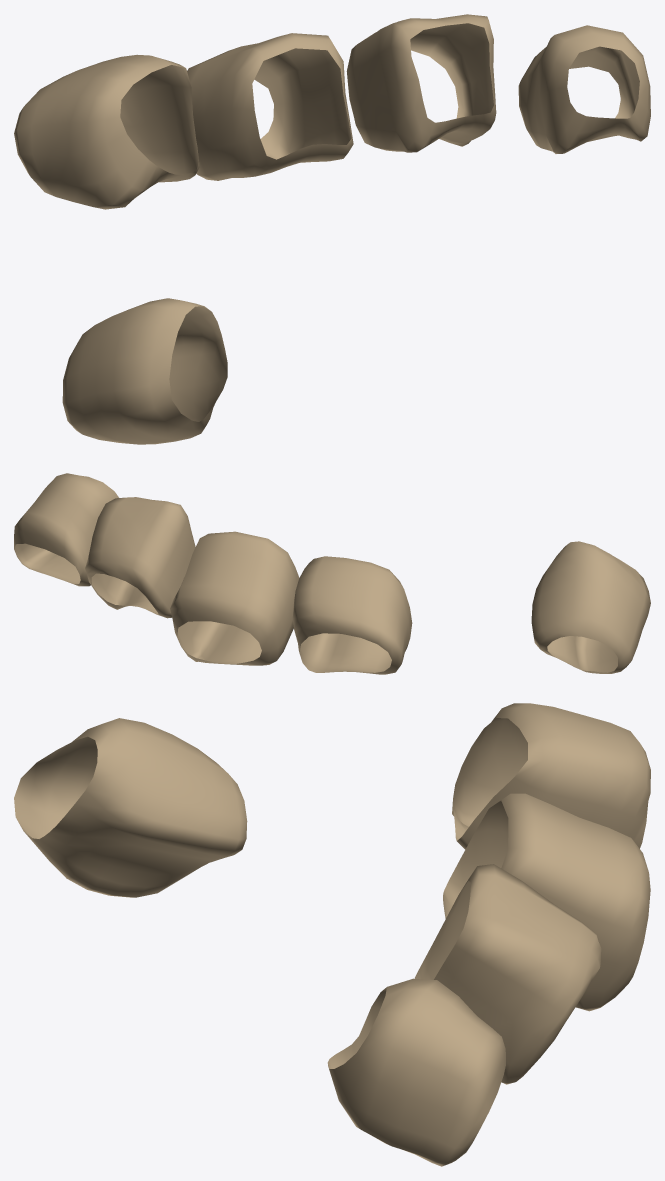
3 renders of one model, top to bottom at view 1: azimuth 30°, elevation 25°; view 2: azimuth 150°, elevation 25°; view 3: azimuth 270°, elevation 25°, orthographic. The views are drawn at different scales.
Visible parts, largest first — view 1: 右侧掌指关节囊; view 2: 右侧掌指关节囊; view 3: 右侧掌指关节囊.
Part boxes in pixels (left/top/right/bottom): 右侧掌指关节囊: left=14, top=14, right=650, bottom=444; 右侧掌指关节囊: left=14, top=473, right=650, bottom=674; 右侧掌指关节囊: left=14, top=703, right=650, bottom=1166.
Bounding box in the file's own units: 0.1362 × 0.0422 × 0.0905.
